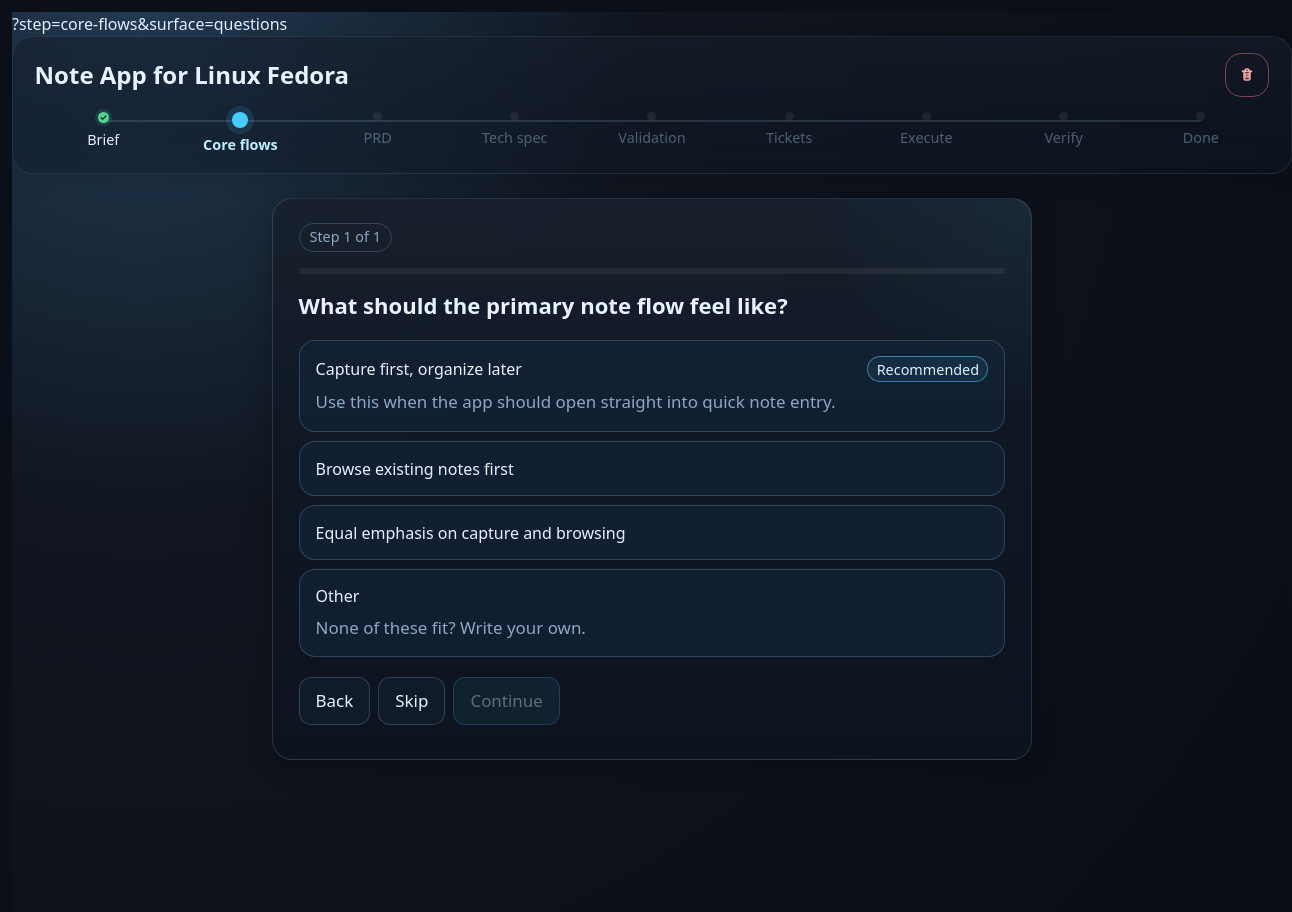
Test: InitiativeView › auto-generates core flows and lands on the review surface instead of advancing
The image size is (1292, 912).
Click the button "Capture first, organize later". click: [419, 369]
box: [299,340,1005,432]
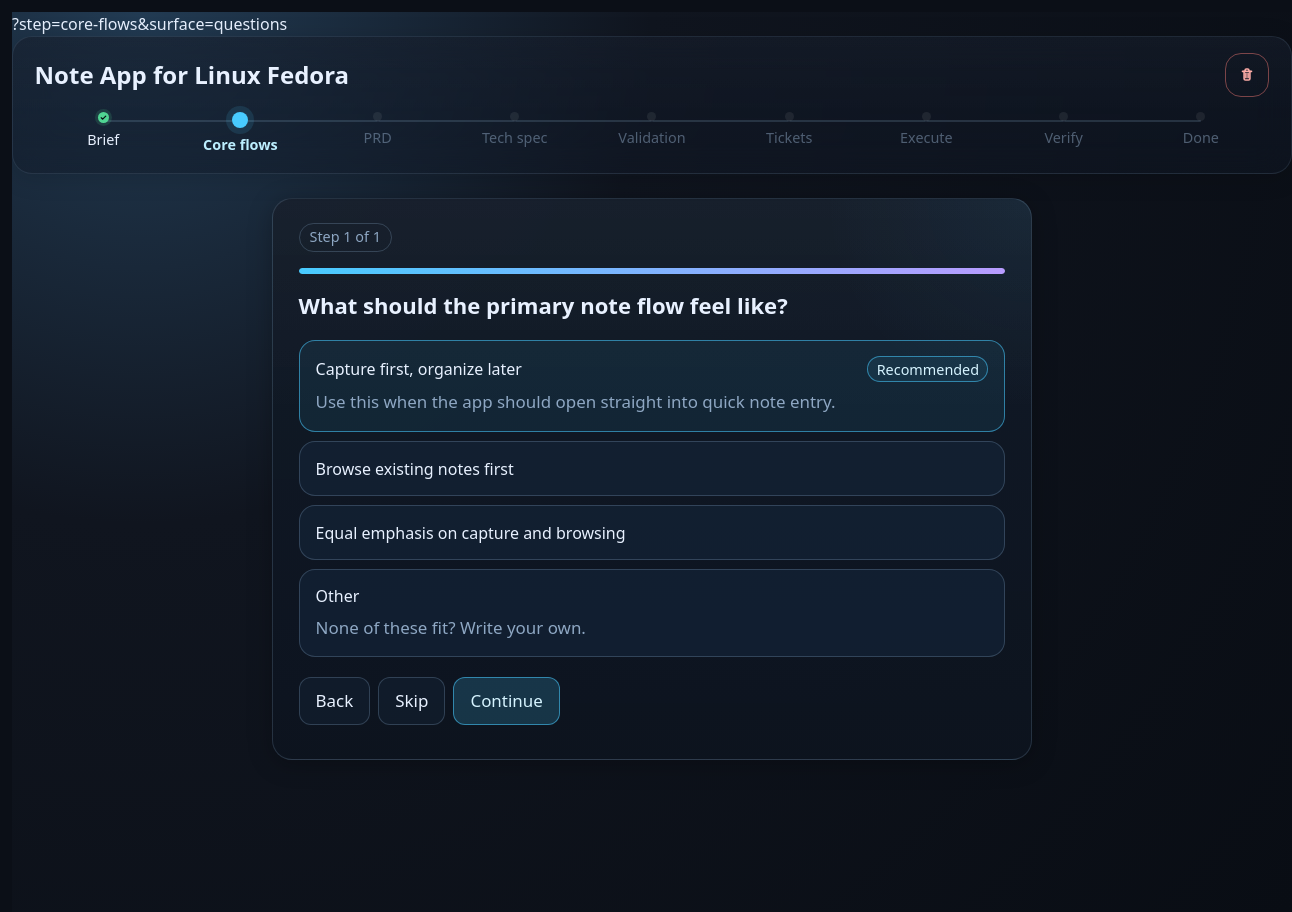
Click the button "Continue". click: [507, 701]
box: [453,677,560,724]
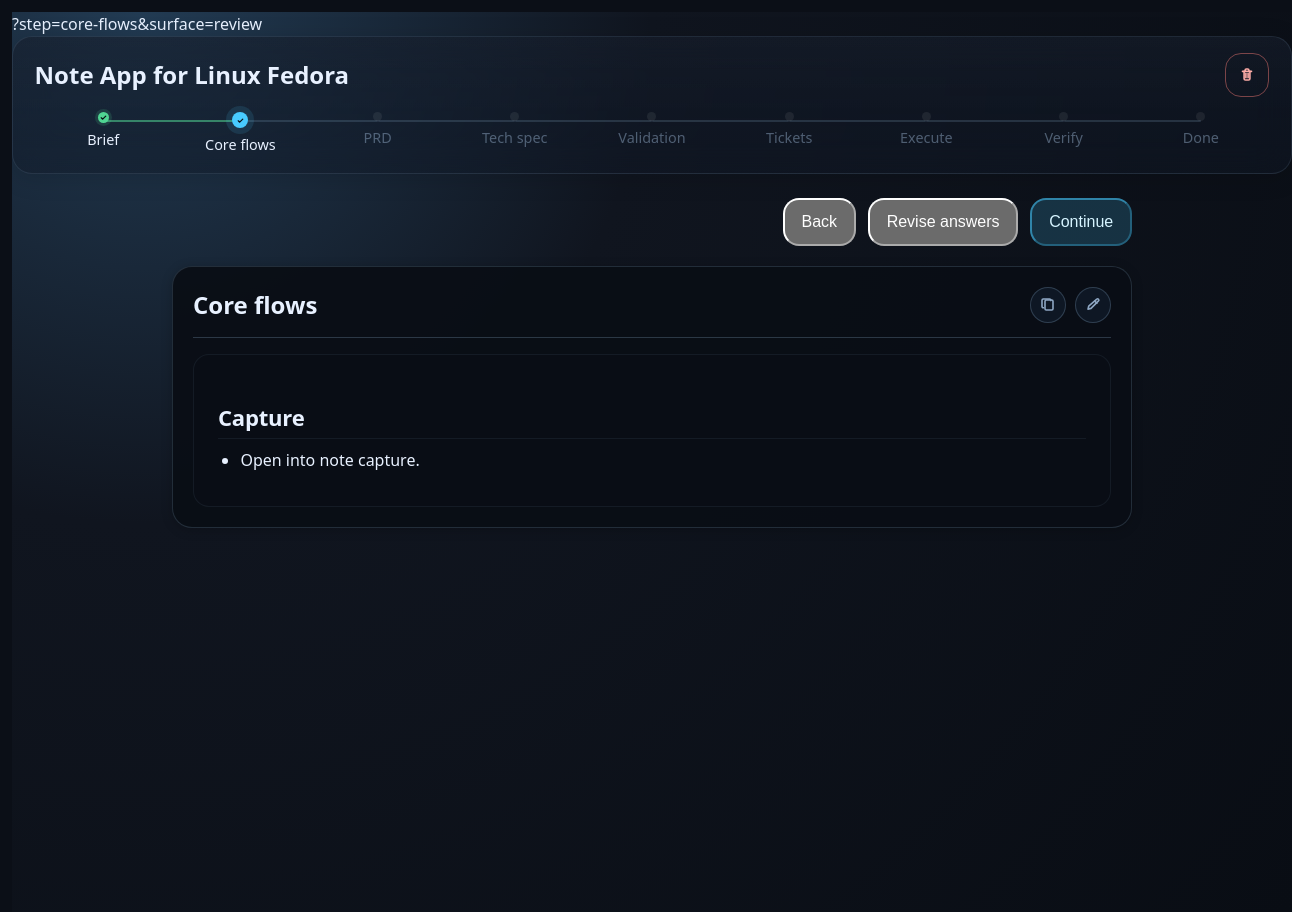
Expected: the text "?step=core-flows&surface=review" is shown, [12,13,262,35]
Expected: the list item "Open into note capture." is shown, [240,449,420,471]
